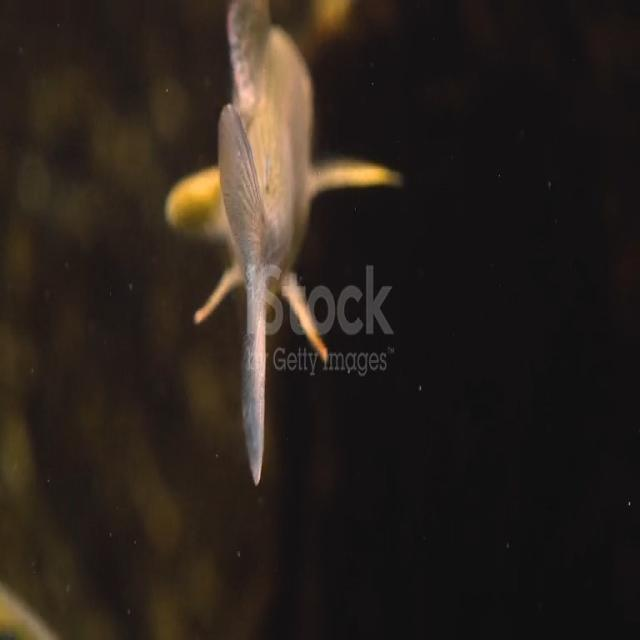fish: (162, 0, 402, 495)
